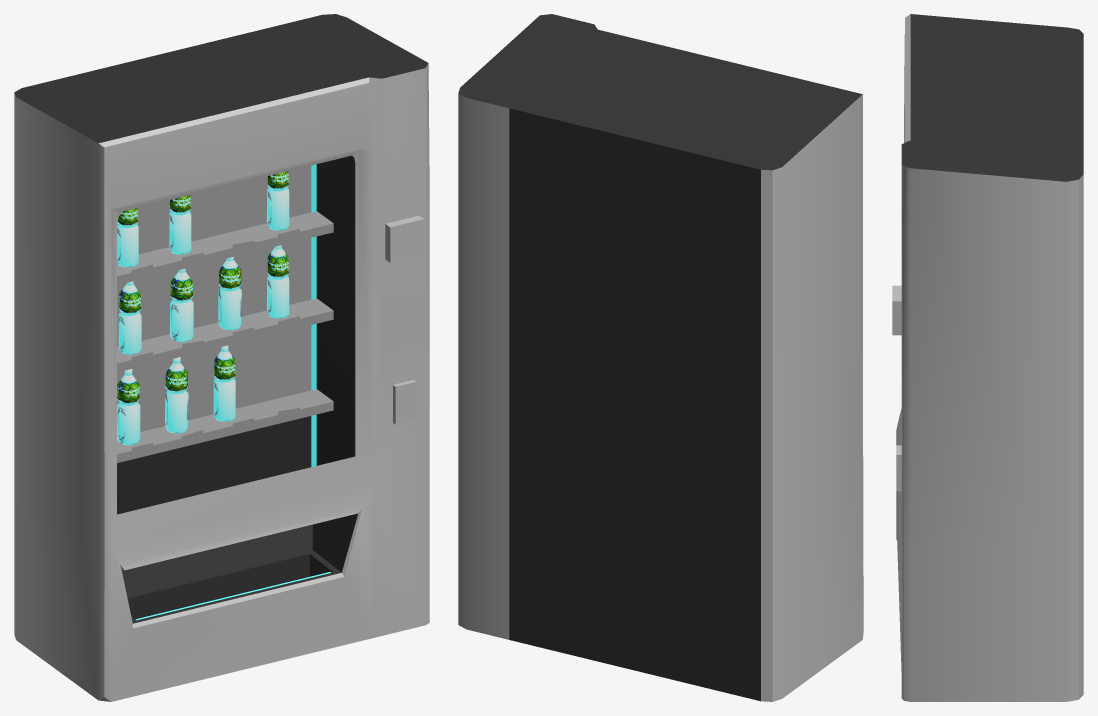
File: TurtleTearsNOANIM.fbx
3 views of the same model, side by side, from view 1: azimuth 30°, elevation 25°; view 2: azimuth 150°, elevation 25°; view 3: azimuth 270°, elevation 25° (orthographic). The views are drawn at different scales.
Visible parts, largest first — view 1: MachineBAKE, Window, Bottles, Lights, BottleMain; view 2: MachineBAKE; view 3: MachineBAKE.
Part boxes in pixels (x1,y1,x2,y2): MachineBAKE: (14,14,429,701); Window: (117,156,352,513); Bottles: (117,171,289,445); Lights: (135,164,331,620); BottleMain: (118,281,141,354); MachineBAKE: (458,14,863,701); MachineBAKE: (892,14,1083,701).
Size of the model in its own units: 189 by 305 by 99.19.
